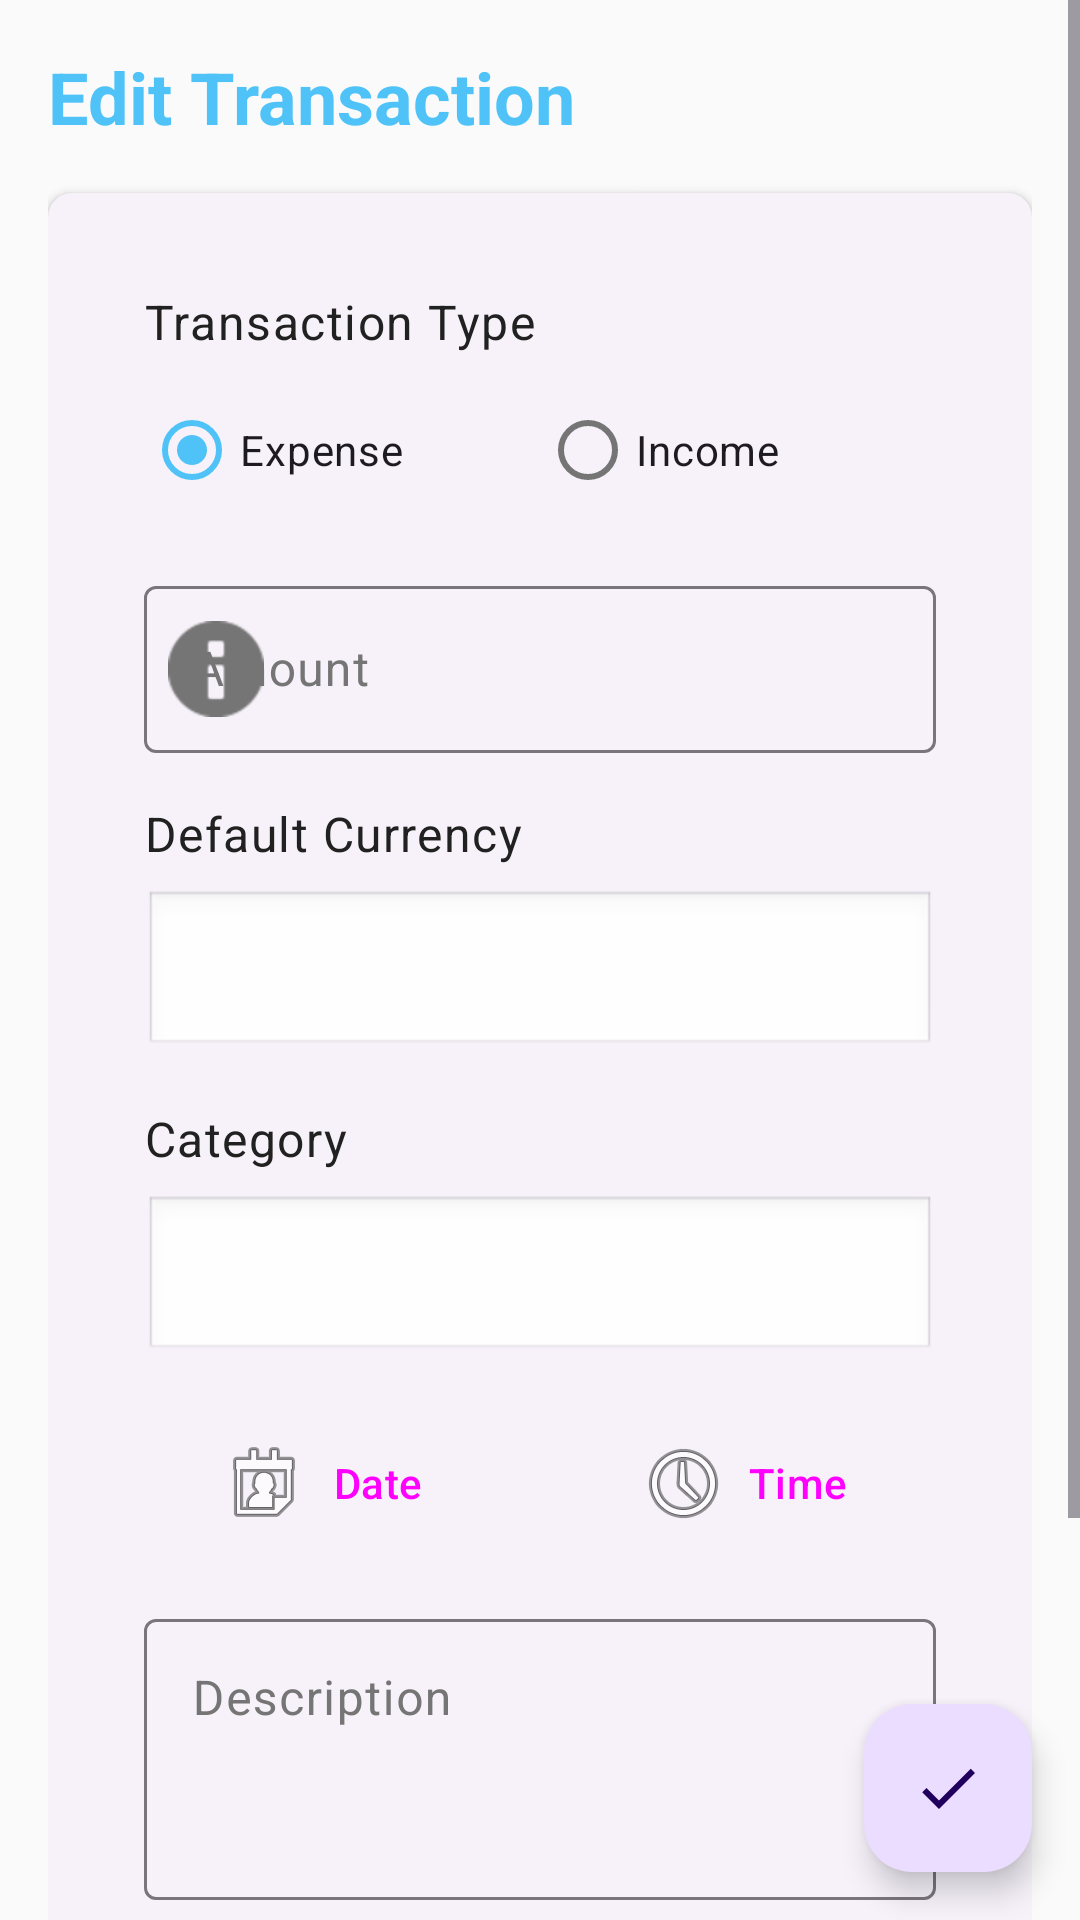

Icons on this 1080×1920 Android screen, each with the point to tap as [x,y]:
Update expense: [948,1788]
